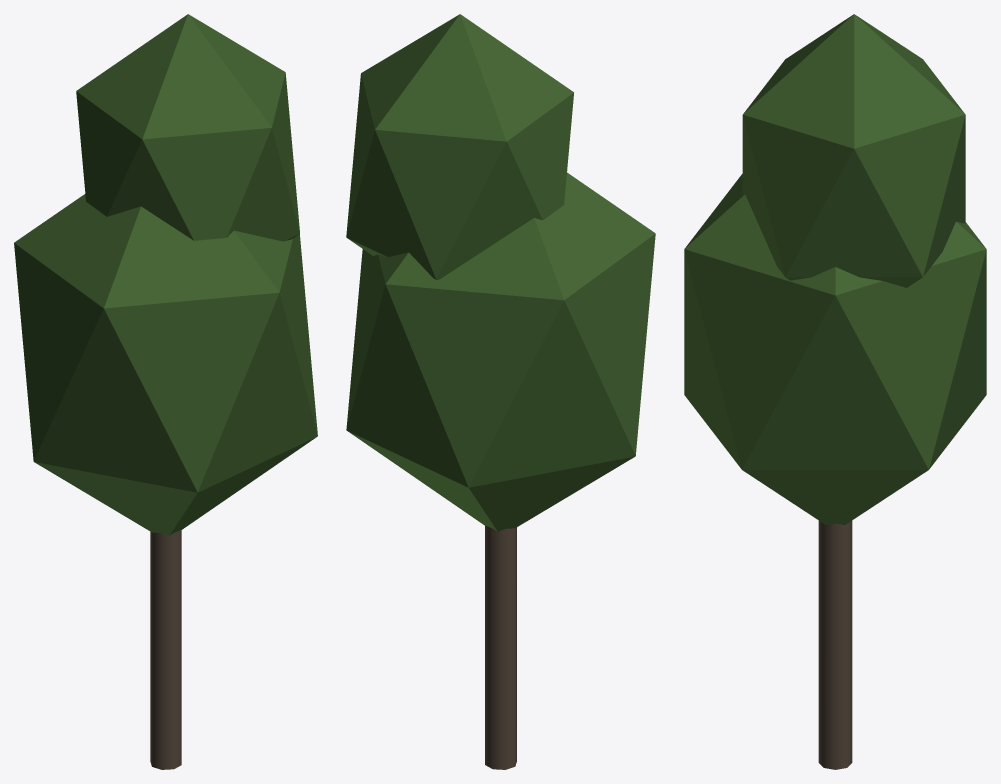
The model's file is blk_tree.glb.
The picture shows the model from 3 angles, left to right: view 1: azimuth 30°, elevation 25°; view 2: azimuth 150°, elevation 25°; view 3: azimuth 270°, elevation 25°; orthographic projection. The views are drawn at different scales.
Parts seen in each view (by area): view 1: blk_tree; view 2: blk_tree; view 3: blk_tree.
Part boxes in pixels (left/top/right/bottom): blk_tree: left=14, top=14, right=317, bottom=769; blk_tree: left=346, top=14, right=655, bottom=769; blk_tree: left=684, top=14, right=986, bottom=769.
Size of what is drawn, in the model's own units: 3.4 by 9.02 by 3.23.
